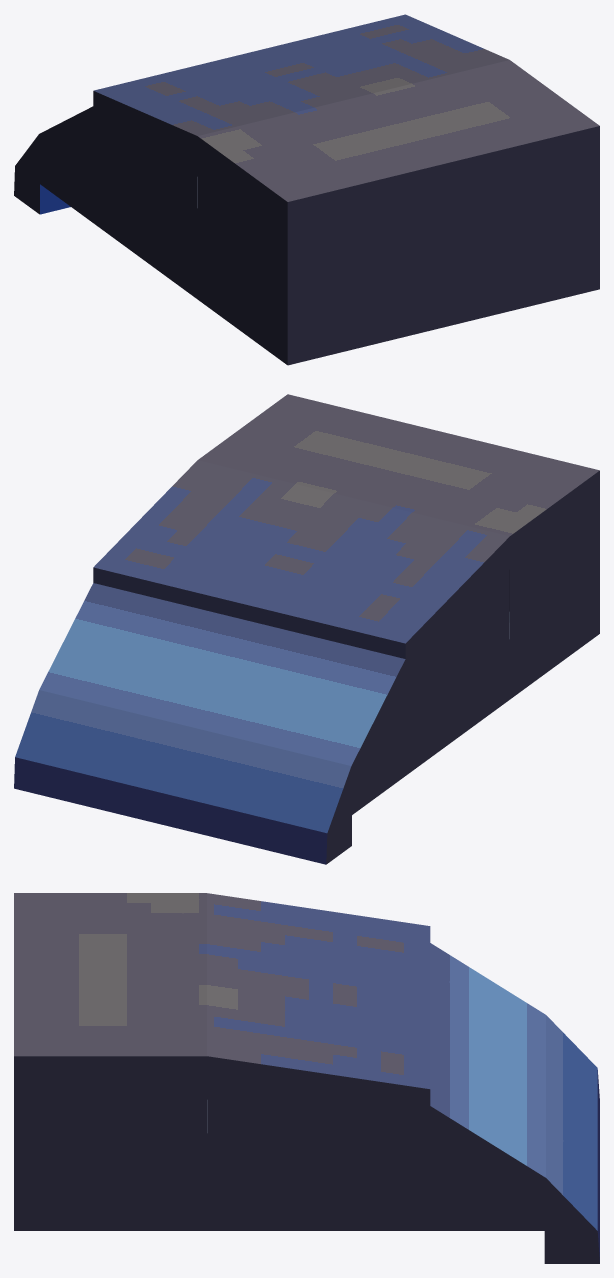
Rendered from df21_dynamic_carport_lh.obj.
3 renders of one model, top to bottom at view 1: azimuth 30°, elevation 25°; view 2: azimuth 150°, elevation 25°; view 3: azimuth 270°, elevation 25°, orthographic. The views are drawn at different scales.
Parts seen in each view (by area): view 1: cuboid_selection_selection_selection_selection_selection_selecti; view 2: cuboid_selection_selection_selection_selection_selection_selecti; view 3: cuboid_selection_selection_selection_selection_selection_selecti.
Boxes of the visible parts, <box> form: cuboid_selection_selection_selection_selection_selection_selecti: <box>14,14,599,365</box>; cuboid_selection_selection_selection_selection_selection_selecti: <box>14,394,599,864</box>; cuboid_selection_selection_selection_selection_selection_selecti: <box>14,893,599,1263</box>.
Bounding box in the file's own units: 1 × 0.5938 × 1.52.
